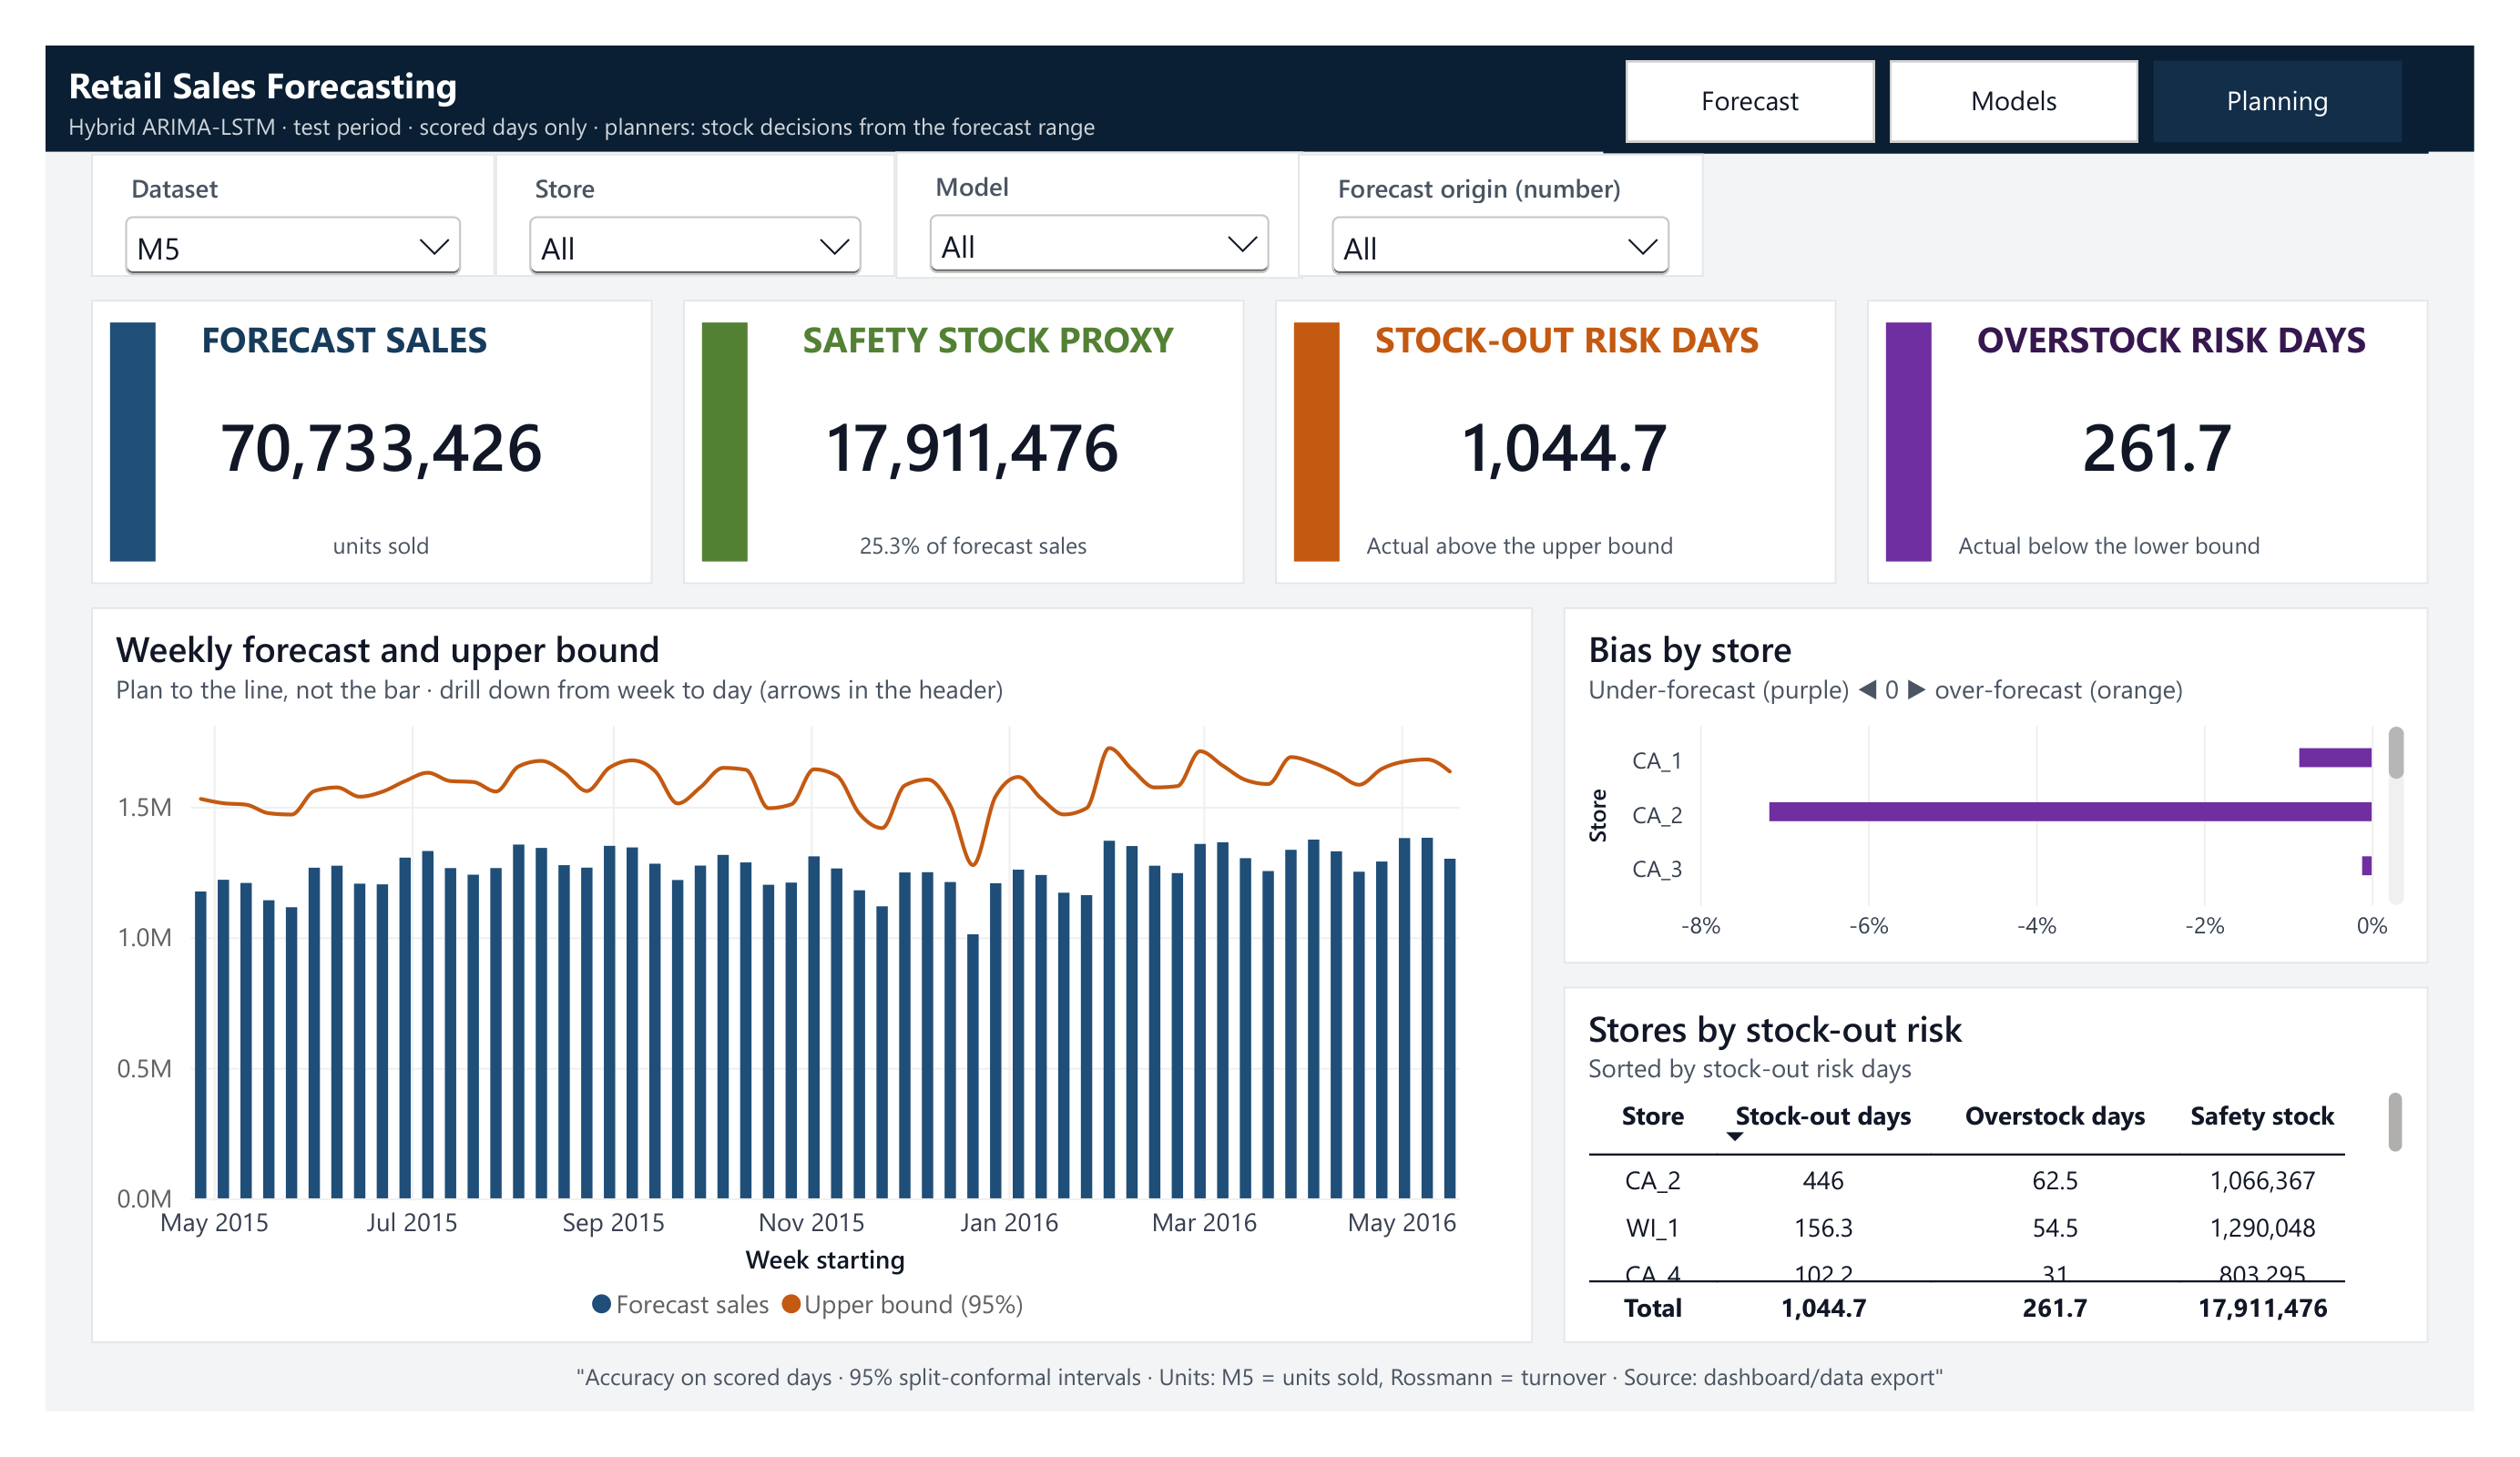

Layout of this report page (visuals, bound fields, positions):
{"tool":"powerbi","page":{"name":"Planning","canvas":[1280,720],"ordinal":2},"visuals":[{"type":"textbox","box":[0,0,1280,56],"z":1000},{"type":"pageNavigator","box":[820.6,0,435.1,56.7],"z":2000},{"type":"slicer","fields":{"Values":["dim_series.dataset"]},"box":[24.1,56.7,212.6,65.2],"z":3000},{"type":"slicer","fields":{"Values":["dim_series.series_id"]},"box":[236.7,56.7,211.2,65.2],"z":4000},{"type":"slicer","fields":{"Values":["dim_model.model_short"]},"box":[447.5,56.2,215,66.2],"z":5000},{"type":"slicer","fields":{"Values":["fact_forecast.origin_number"]},"box":[660.5,56.7,214,65.2],"z":6000},{"type":"textbox","box":[24,134,296,150],"z":7000},{"type":"textbox","box":[34,146,5,126],"z":8000},{"type":"textbox","box":[46,142,266,26],"z":9000},{"type":"card","fields":{"Values":["_Measures.Forecast Sales (scored) (display)"]},"box":[44,168,266,86],"z":10000},{"type":"card","fields":{"Values":["_Measures.Unit Label"]},"box":[44,254,266,24],"z":11000},{"type":"textbox","box":[336,134,296,150],"z":12000},{"type":"textbox","box":[346,146,5,126],"z":13000},{"type":"textbox","box":[358,142,266,26],"z":14000},{"type":"card","fields":{"Values":["_Measures.Safety Stock Proxy (display)"]},"box":[356,168,266,86],"z":15000},{"type":"card","fields":{"Values":["_Measures.Safety Stock Subtitle"]},"box":[356,254,266,24],"z":16000},{"type":"textbox","box":[648,134,296,150],"z":17000},{"type":"textbox","box":[658,146,5,126],"z":18000},{"type":"textbox","box":[670,142,266,26],"z":19000},{"type":"card","fields":{"Values":["_Measures.Stock-out Risk Days (display)"]},"box":[668,168,266,86],"z":20000},{"type":"textbox","box":[670,254,266,24],"z":21000},{"type":"textbox","box":[960,134,296,150],"z":22000},{"type":"textbox","box":[970,146,5,126],"z":23000},{"type":"textbox","box":[982,142,266,26],"z":24000},{"type":"card","fields":{"Values":["_Measures.Overstock Risk Days (display)"]},"box":[980,168,266,86],"z":25000},{"type":"textbox","box":[982,254,266,24],"z":26000},{"type":"lineClusteredColumnComboChart","title":"Weekly forecast and upper bound","fields":{"Category":["dim_date.week_start","dim_date.date"],"Y":["_Measures.Forecast Sales (scored)"],"Y2":["_Measures.Forecast Upper 95% (scored)"]},"box":[24,296,760,388],"z":27000},{"type":"clusteredBarChart","title":"Bias by store","fields":{"Category":["dim_series.series_id"],"Y":["_Measures.Bias %"]},"box":[800,296,456,188],"z":28000},{"type":"tableEx","title":"Stores by stock-out risk","fields":{"Values":["dim_series.series_id","_Measures.Stock-out Risk Days","_Measures.Overstock Risk Days","_Measures.Safety Stock Proxy"]},"box":[800,496,456,188],"z":29000},{"type":"textbox","box":[23.8,683.8,1232.5,33.8],"z":30000}]}

Visuals, with their boxes on the page's 1280x720 design canvas (x1, y1, x2, y2). These are canvas units, not pixel positions in the 2520x1457 screenshot, which may show the page scaled, cropped or inside an application window:
textbox: 0/0/1280/56
pageNavigator: 821/0/1256/57
slicer - dim_series.dataset: 24/57/237/122
slicer - dim_series.series_id: 237/57/448/122
slicer - dim_model.model_short: 448/56/662/122
slicer - fact_forecast.origin_number: 660/57/874/122
textbox: 24/134/320/284
textbox: 34/146/39/272
textbox: 46/142/312/168
card - _Measures.Forecast Sales (scored) (display): 44/168/310/254
card - _Measures.Unit Label: 44/254/310/278
textbox: 336/134/632/284
textbox: 346/146/351/272
textbox: 358/142/624/168
card - _Measures.Safety Stock Proxy (display): 356/168/622/254
card - _Measures.Safety Stock Subtitle: 356/254/622/278
textbox: 648/134/944/284
textbox: 658/146/663/272
textbox: 670/142/936/168
card - _Measures.Stock-out Risk Days (display): 668/168/934/254
textbox: 670/254/936/278
textbox: 960/134/1256/284
textbox: 970/146/975/272
textbox: 982/142/1248/168
card - _Measures.Overstock Risk Days (display): 980/168/1246/254
textbox: 982/254/1248/278
"Weekly forecast and upper bound" lineClusteredColumnComboChart: 24/296/784/684
"Bias by store" clusteredBarChart: 800/296/1256/484
"Stores by stock-out risk" tableEx: 800/496/1256/684
textbox: 24/684/1256/718
